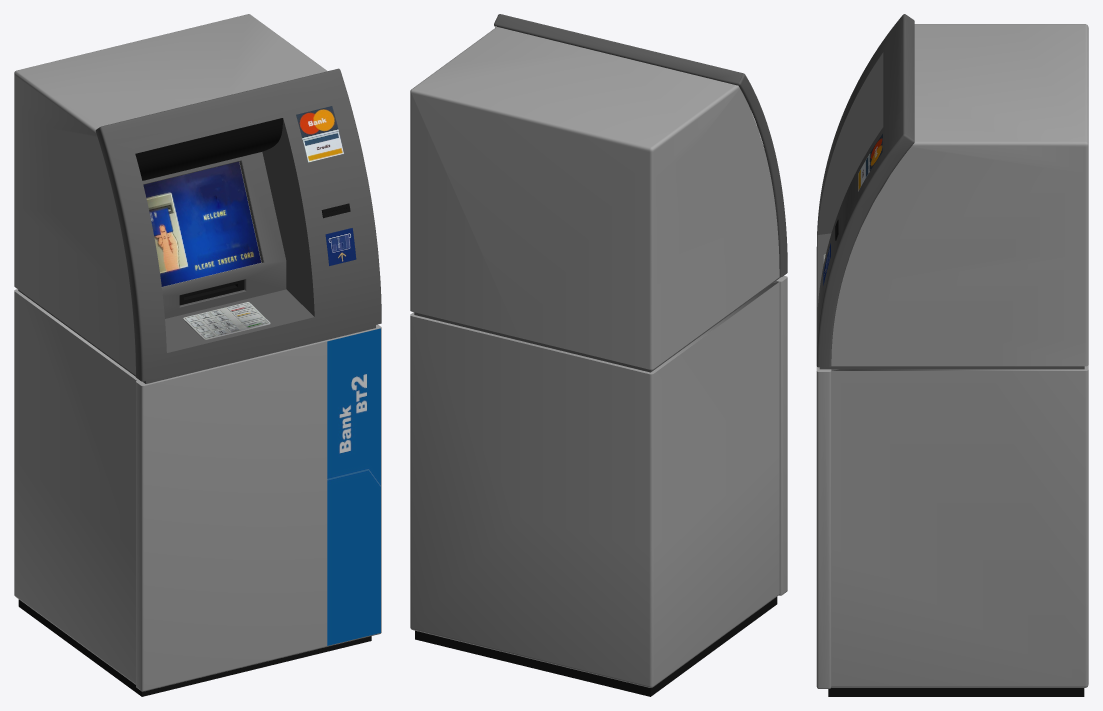
File: atm.glb
The picture shows the model from 3 angles, left to right: view 1: azimuth 30°, elevation 25°; view 2: azimuth 150°, elevation 25°; view 3: azimuth 270°, elevation 25°; orthographic projection. The views are drawn at different scales.
Parts seen in each view (by area): view 1: Atm; view 2: Atm; view 3: Atm.
Part boxes in pixels (left/top/right/bottom): Atm: left=14, top=14, right=381, bottom=696; Atm: left=410, top=14, right=787, bottom=696; Atm: left=816, top=14, right=1088, bottom=696.
Bounding box in the file's own units: 0.5503 × 1.19 × 0.5198.
1 material, 1 textured.
